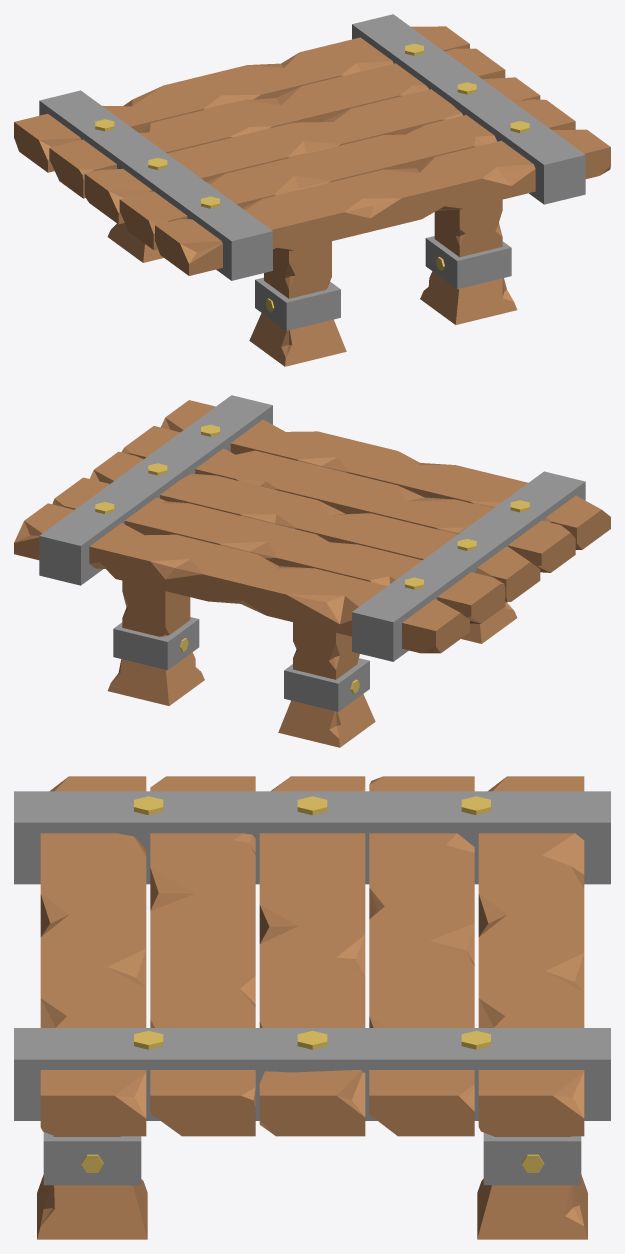
File: Colour table export for mixer.fbx
3 renders of one model, top to bottom at view 1: azimuth 30°, elevation 25°; view 2: azimuth 150°, elevation 25°; view 3: azimuth 270°, elevation 25°, orthographic. The views are drawn at different scales.
Visible parts, largest first — view 1: Plank1, Plank_1_Dupe, Plank_1_Dupe_3, Plank_1_Dupe_2, Plune_1_Dupe_4, Sidebar_1, Sidebar_2, Leg4, Leg3, L3_Block, L2_Block, Leg2; view 2: Plune_1_Dupe_4, Plank_1_Dupe_3, Plank_1_Dupe, Plank_1_Dupe_2, Plank1, Sidebar_1, Sidebar_2, Leg1, Leg2, L4_Block, L1_Block, Leg3; view 3: Plune_1_Dupe_4, Plank1, Plank_1_Dupe_2, Plank_1_Dupe, Plank_1_Dupe_3, Sidebar_2, Sidebar_1, Leg1, Leg4, L2_Block, L4_Block.
Boxes of the visible parts, x1,y1,x2,y2 form: Plank1: (155, 129, 610, 275); Plank_1_Dupe: (119, 99, 575, 249); Plank_1_Dupe_3: (49, 48, 505, 198); Plank_1_Dupe_2: (84, 77, 540, 224); Plune_1_Dupe_4: (14, 26, 469, 172); Sidebar_1: (352, 14, 585, 204); Sidebar_2: (39, 90, 272, 280); Leg4: (420, 199, 517, 324); Leg3: (249, 241, 346, 366); L3_Block: (255, 277, 340, 330); L2_Block: (425, 236, 511, 289); Leg2: (107, 223, 163, 262); Plune_1_Dupe_4: (14, 503, 469, 653); Plank_1_Dupe_3: (52, 477, 505, 623); Plank_1_Dupe: (121, 426, 575, 572); Plank_1_Dupe_2: (90, 451, 540, 602); Plank1: (160, 400, 610, 549); Sidebar_1: (39, 395, 272, 585); Sidebar_2: (352, 471, 585, 661); Leg1: (107, 580, 204, 705); Leg2: (278, 622, 375, 747); L4_Block: (113, 617, 199, 670); L1_Block: (284, 658, 369, 711); Leg3: (461, 602, 517, 643); Plune_1_Dupe_4: (478, 776, 584, 1136); Plank1: (40, 776, 146, 1136); Plank_1_Dupe_2: (259, 776, 365, 1136); Plank_1_Dupe: (150, 776, 255, 1136); Plank_1_Dupe_3: (369, 776, 474, 1136); Sidebar_2: (14, 791, 610, 884); Sidebar_1: (14, 1028, 610, 1120); Leg1: (477, 1136, 587, 1239); Leg4: (37, 1136, 147, 1239); L2_Block: (43, 1132, 141, 1185); L4_Block: (483, 1133, 581, 1185).
Size of the model in its own units: 16.4 by 5.53 by 12.95.
